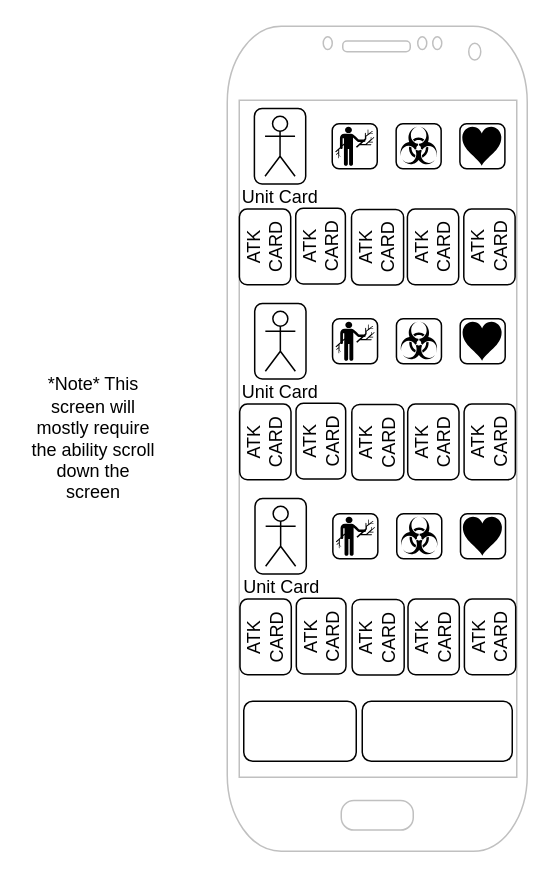
Image size: 554x878. Some labels were removed from this diagram. The box of each missing label's shape, as (x1, y1, x2, y2) in pixels:
Generate QR Code / Code: (361, 700, 512, 761)
Save Deck: (242, 700, 356, 761)
